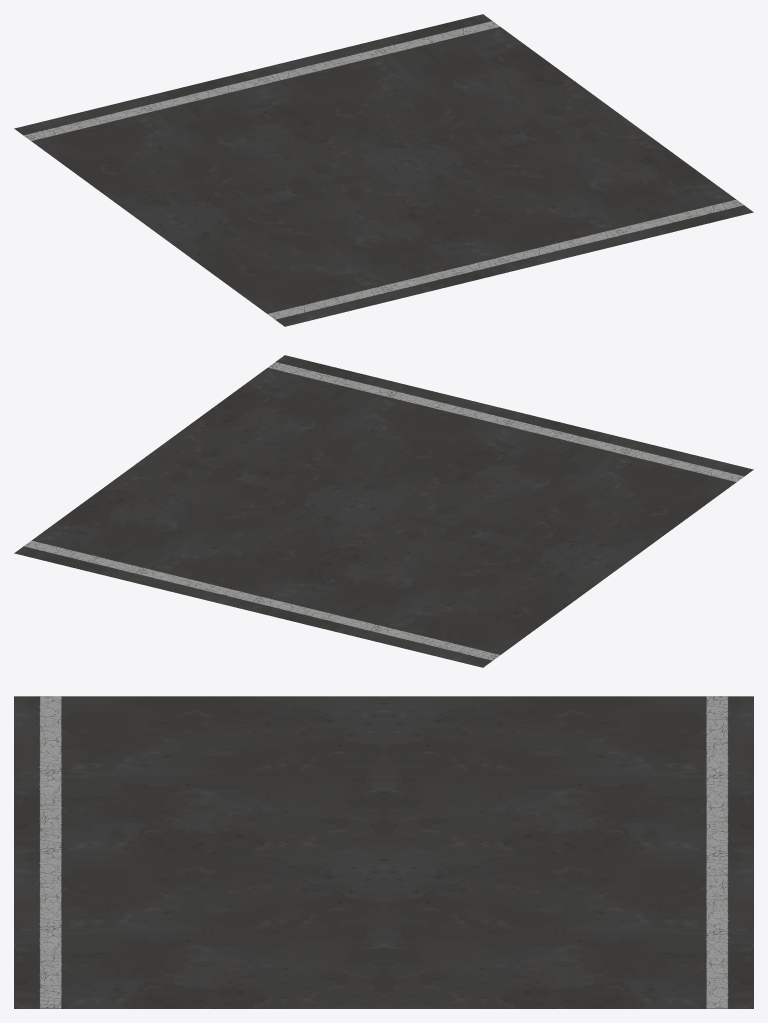
The model's file is Street_2Lane_noSidewalk.gltf.
3 renders of one model, top to bottom at view 1: azimuth 30°, elevation 25°; view 2: azimuth 150°, elevation 25°; view 3: azimuth 270°, elevation 25°, orthographic. The views are drawn at different scales.
Parts seen in each view (by area): view 1: Street_2Lane_noSidewalk; view 2: Street_2Lane_noSidewalk; view 3: Street_2Lane_noSidewalk.
Boxes of the visible parts, box(x1,y1,x2,y2) form: Street_2Lane_noSidewalk: box(14, 14, 753, 326); Street_2Lane_noSidewalk: box(14, 355, 753, 667); Street_2Lane_noSidewalk: box(14, 696, 753, 1008).
Size of the model in its own units: 6 by 0.002 by 6.
Materials: 2 (2 with a texture image).
